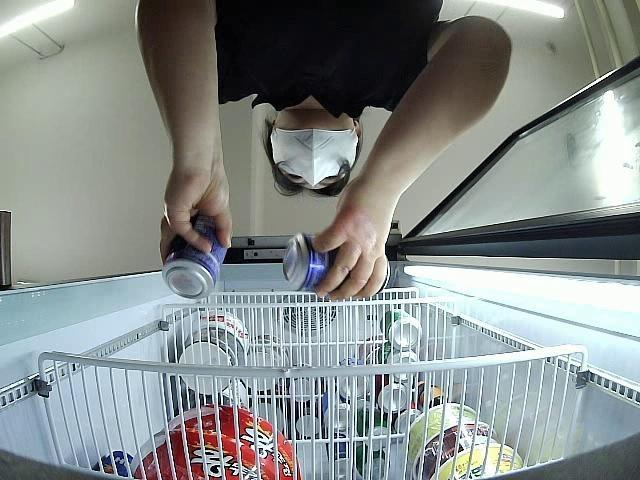14_welchsGrape: (284, 235, 390, 292), (162, 212, 225, 298)
